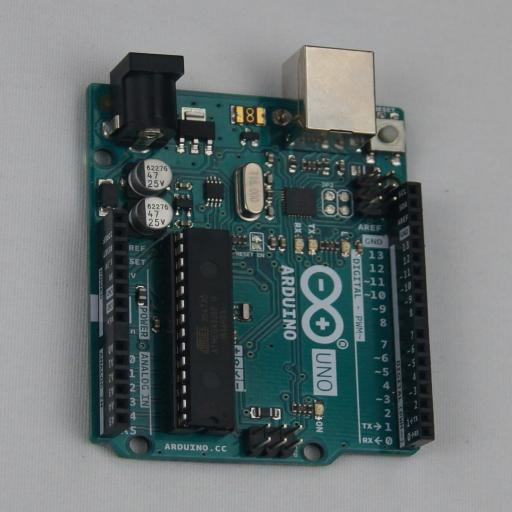Arduino Uno -Green-: (82, 45, 434, 466)
